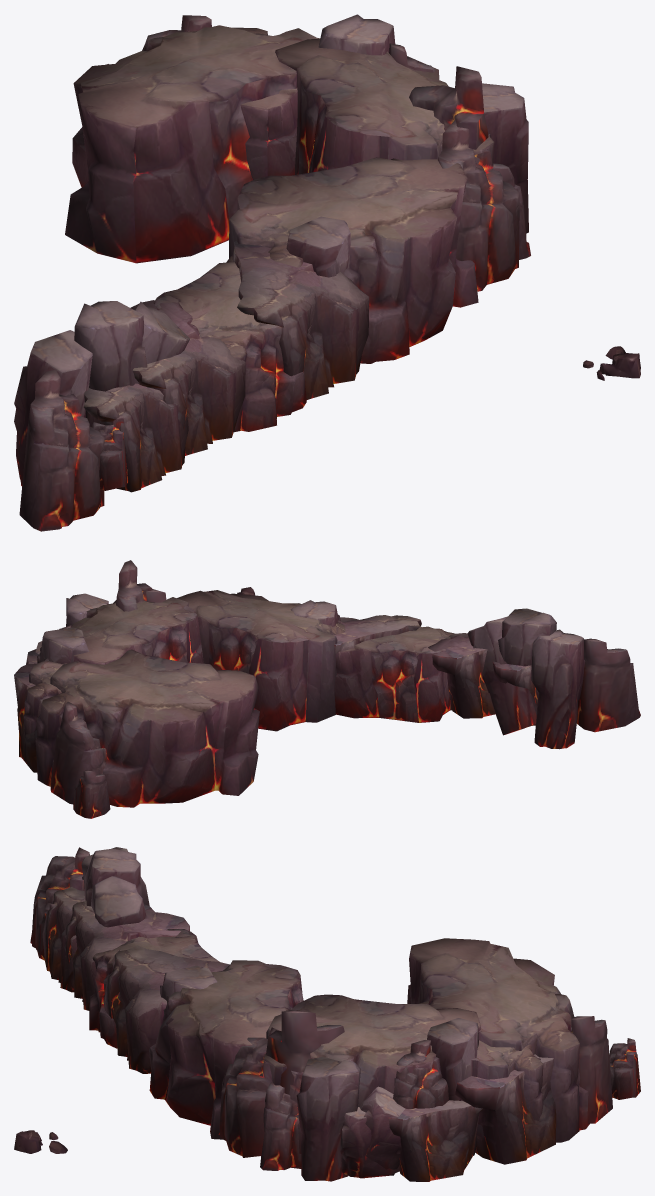
The model's file is yanshi12_1.fbx.
3 views of the same model, one above another, from view 1: azimuth 30°, elevation 25°; view 2: azimuth 150°, elevation 25°; view 3: azimuth 270°, elevation 25° (orthographic). The views are drawn at different scales.
Parts seen in each view (by area): view 1: yanshi12_1; view 2: yanshi12_1; view 3: yanshi12_1.
Part boxes in pixels (box(x1,y1,x2,y2)): yanshi12_1: box(14, 14, 640, 531); yanshi12_1: box(14, 560, 640, 818); yanshi12_1: box(14, 847, 640, 1181).
Size of the model in its own units: 6032 by 1848 by 6078.
